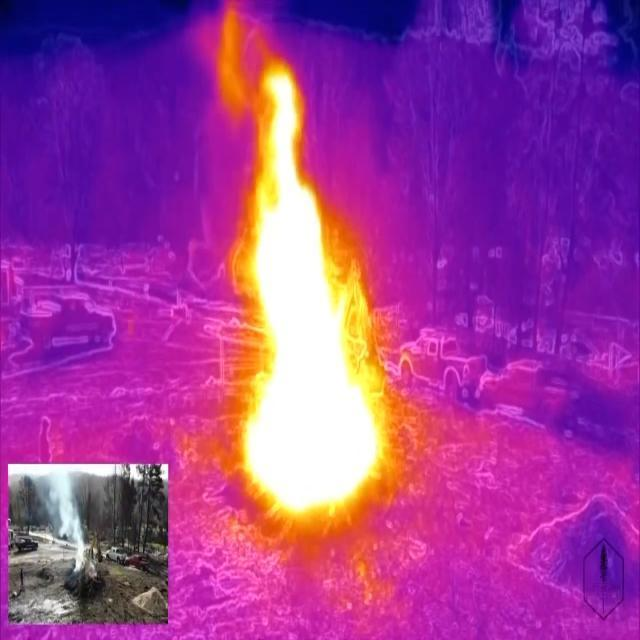fire: (251, 67, 381, 520)
